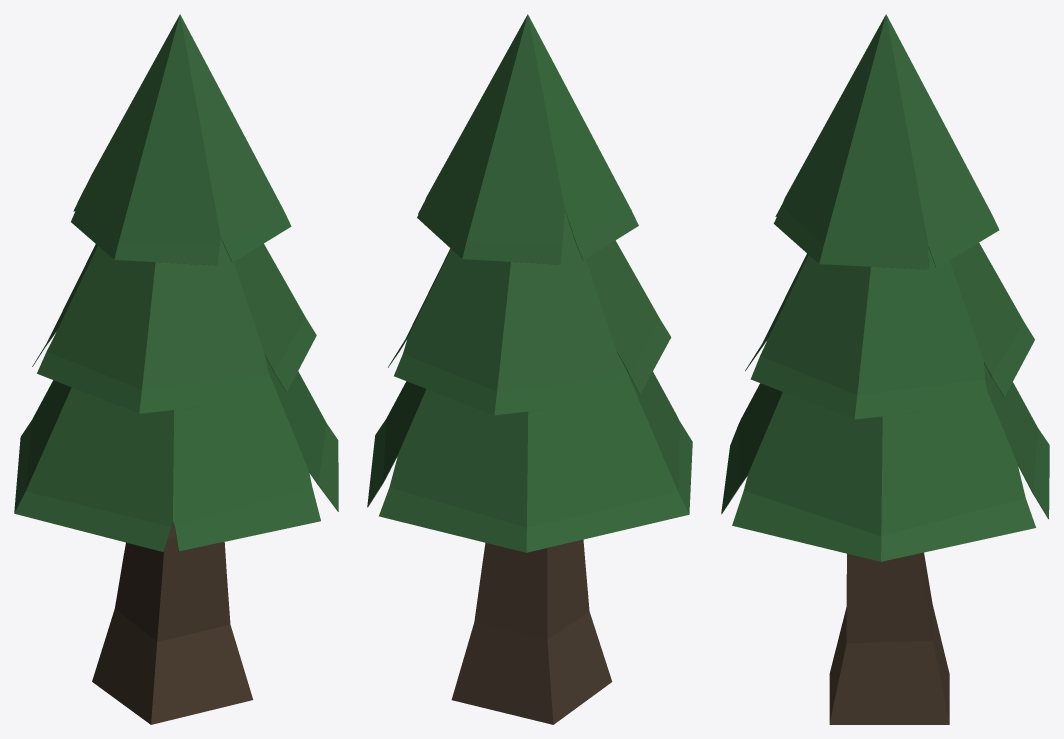
Rendered from PineTree2.fbx.
3 views of the same model, side by side, from view 1: azimuth 30°, elevation 25°; view 2: azimuth 150°, elevation 25°; view 3: azimuth 270°, elevation 25° (orthographic). The views are drawn at different scales.
Visible parts, largest first — view 1: PineTree2Foliage, PineTree2; view 2: PineTree2Foliage, PineTree2; view 3: PineTree2Foliage, PineTree2.
Boxes of the visible parts, left/top/right/bottom form: PineTree2Foliage: left=14, top=14, right=338, bottom=551; PineTree2: left=92, top=521, right=253, bottom=724; PineTree2Foliage: left=367, top=14, right=692, bottom=552; PineTree2: left=451, top=539, right=612, bottom=724; PineTree2Foliage: left=721, top=14, right=1049, bottom=561; PineTree2: left=829, top=552, right=949, bottom=724.
Size of the model in its own units: 4.93 by 9.96 by 4.31.
